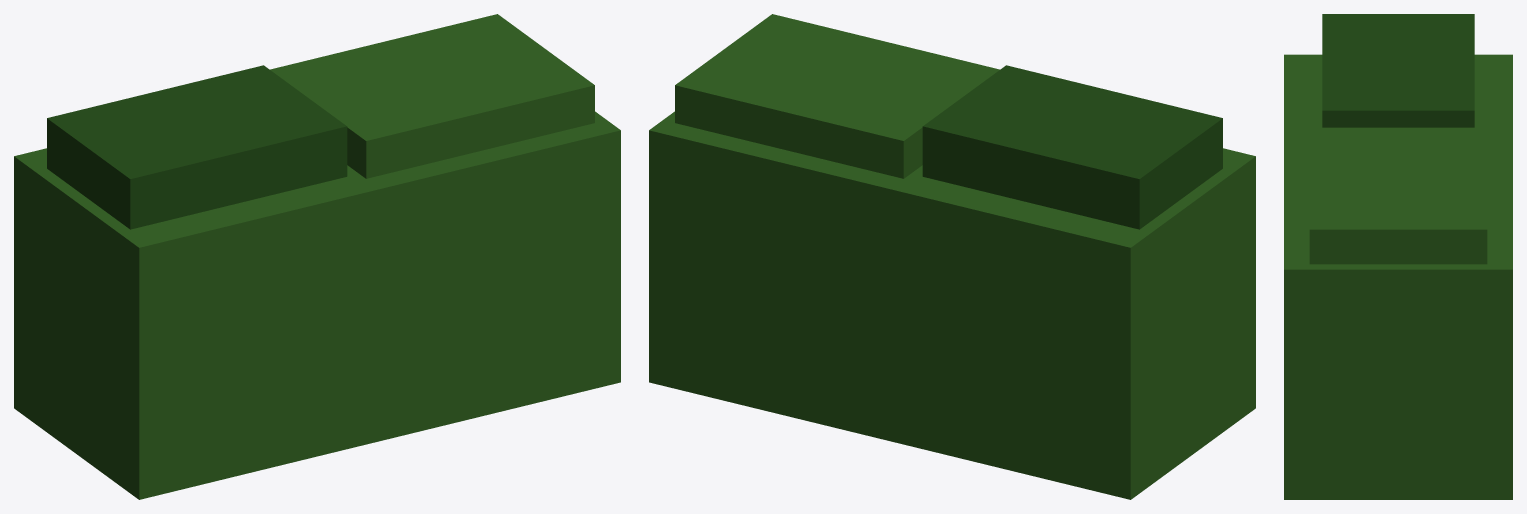
File: hedge.glb
3 renders of one model, left to right at view 1: azimuth 30°, elevation 25°; view 2: azimuth 150°, elevation 25°; view 3: azimuth 270°, elevation 25°, orthographic. The views are drawn at different scales.
Parts seen in each view (by area): view 1: placeholder; view 2: placeholder; view 3: placeholder.
Boxes of the visible parts, box(x1,y1,x2,y2) form: placeholder: box(14, 14, 620, 499); placeholder: box(649, 14, 1255, 499); placeholder: box(1284, 14, 1512, 499).
Bounding box in the file's own units: 2 × 1.2 × 0.9.
